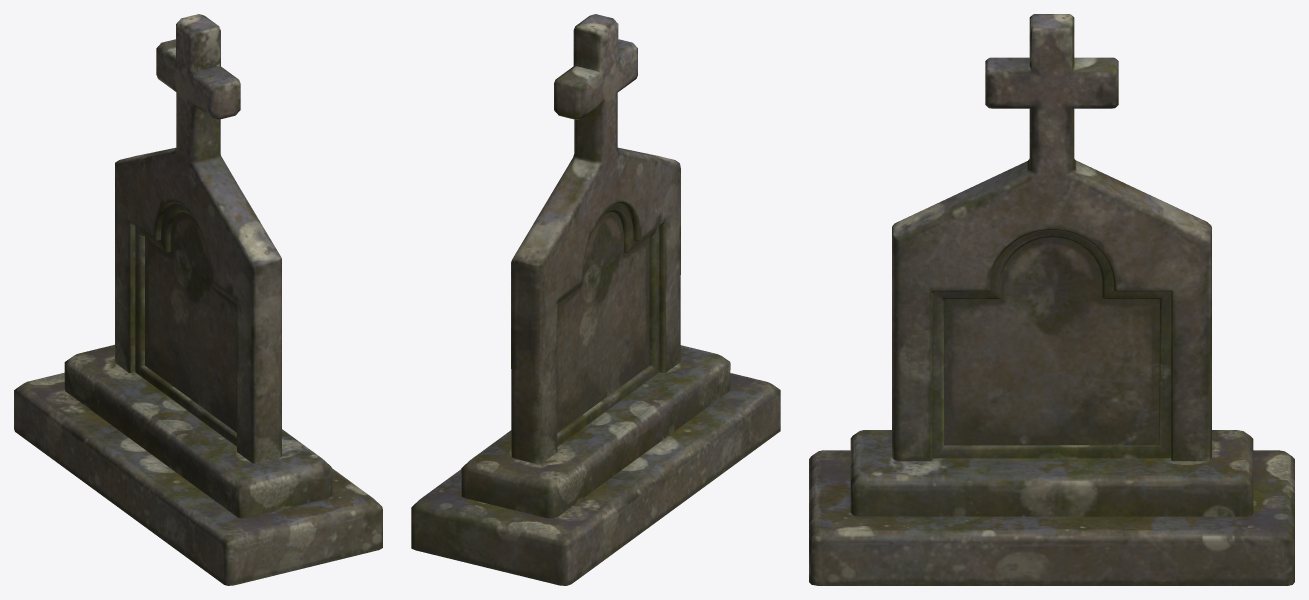
Rendered from SM_TombsD_002.fbx.
The picture shows the model from 3 angles, left to right: view 1: azimuth 30°, elevation 25°; view 2: azimuth 150°, elevation 25°; view 3: azimuth 270°, elevation 25°; orthographic projection. The views are drawn at different scales.
Parts seen in each view (by area): view 1: SM_TombsD_002_LOD0; view 2: SM_TombsD_002_LOD0; view 3: SM_TombsD_002_LOD0.
Part boxes in pixels (x1,y1,x2,y2): SM_TombsD_002_LOD0: (14, 14, 382, 585); SM_TombsD_002_LOD0: (411, 14, 780, 585); SM_TombsD_002_LOD0: (809, 14, 1294, 585).
Bounding box in the file's own units: 21.36 × 50.36 × 59.87.
1 material, 1 textured.
